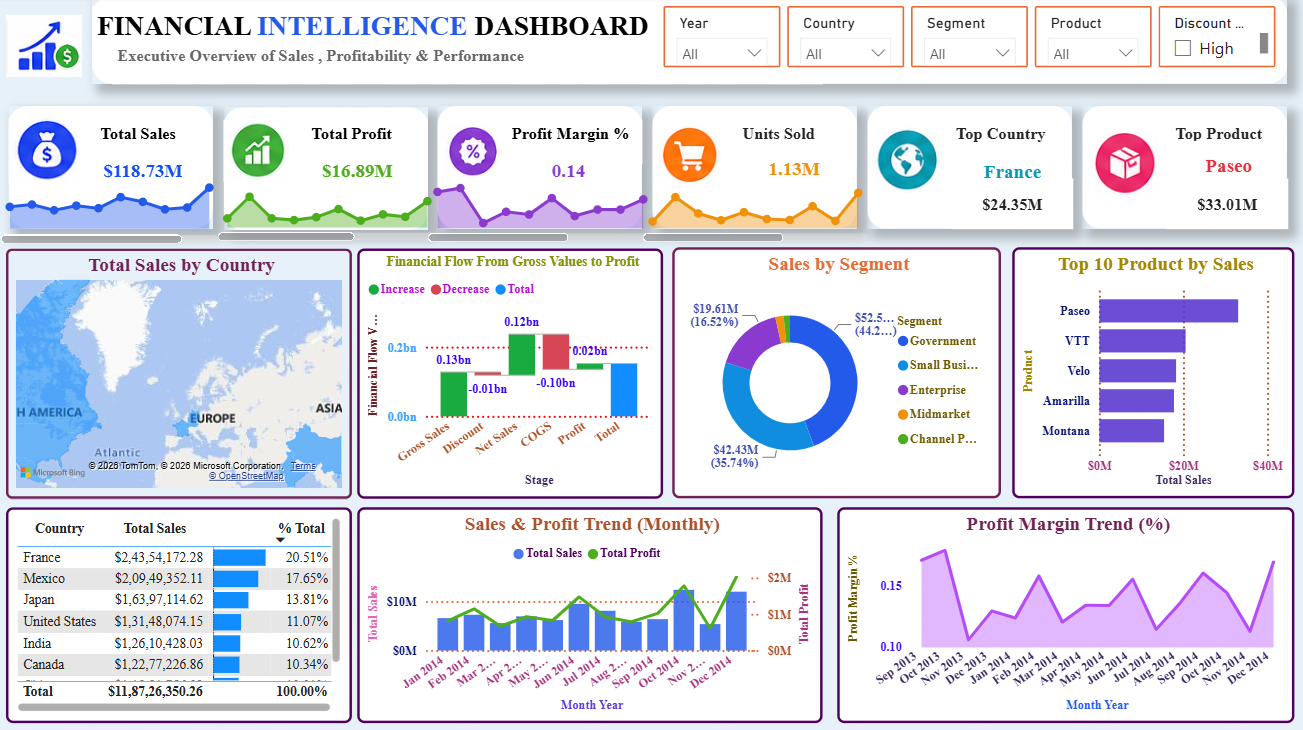

The dashboard page shown, as its layout file describes it:
{"tool":"powerbi","page":{"name":"Page 1","canvas":[1280,720],"ordinal":0},"visuals":[{"type":"shape","box":[94.1,0,1169,85.7],"z":0},{"type":"image","box":[9.8,0,74.6,97.8],"z":1000},{"type":"textbox","box":[94.1,9.7,579.1,61.5],"z":2000},{"type":"textbox","box":[113.4,43.4,694.9,42.2],"z":3000},{"type":"slicer","fields":{"Values":["Calender.Year"]},"box":[652.7,9.7,114,60.3],"z":4000},{"type":"slicer","fields":{"Values":["financials.Country"]},"box":[773.8,9.7,114,60.3],"z":5000},{"type":"slicer","fields":{"Values":["financials.Segment"]},"box":[894.9,9.7,114.6,60.3],"z":6000},{"type":"slicer","fields":{"Values":["financials.Product"]},"box":[1016.6,9.7,114,60.3],"z":7000},{"type":"slicer","fields":{"Values":["financials.Discount Band"]},"box":[1137.7,9.7,114.6,60.3],"z":8000},{"type":"shape","box":[12,108,200,120],"z":9000},{"type":"shape","box":[222,108.6,200.3,120],"z":10000},{"type":"shape","box":[432.2,107.4,200.3,120],"z":11000},{"type":"shape","box":[642.4,107.4,200.3,120],"z":12000},{"type":"shape","box":[852.6,107.4,200.3,120],"z":13000},{"type":"shape","box":[1062.9,107.4,200.3,120],"z":14000},{"type":"textbox","box":[76,120.6,126.7,33.8],"z":15000},{"type":"textbox","box":[273.9,120.6,148.4,33.8],"z":16000},{"type":"textbox","box":[491,120.6,141.2,43.4],"z":17000},{"type":"textbox","box":[690.1,120.6,152,43.4],"z":18000},{"type":"textbox","box":[926.5,120.6,115.8,33.8],"z":19000},{"type":"textbox","box":[1130.4,120.6,132.7,33.8],"z":20000},{"type":"image","box":[12.2,108.8,73.4,84.4],"z":21000},{"type":"image","box":[222.6,107.6,64.8,88],"z":22000},{"type":"image","box":[436.6,126,59.9,52.6],"z":23000},{"type":"image","box":[646.9,108.8,62.4,95.4],"z":24000},{"type":"image","box":[857.2,107.6,69.7,105.2],"z":25000},{"type":"image","box":[1074.9,127.2,62.4,75.8],"z":26000},{"type":"cardVisual","fields":{"Data":["Measure.Total Sales"]},"box":[76,137.5,136.3,66.4],"z":27000},{"type":"cardVisual","fields":{"Data":["Measure.Total Profit"]},"box":[284.7,146,137.5,49.5],"z":28000},{"type":"cardVisual","fields":{"Data":["Measure.Profit Margin %"]},"box":[491,146,137.5,49.5],"z":29000},{"type":"cardVisual","fields":{"Data":["Measure.Units Sold"]},"box":[720.2,144.8,121.9,49.5],"z":30000},{"type":"cardVisual","fields":{"Data":["Measure.Top Country"]},"box":[935,147.2,118.2,49.5],"z":31000},{"type":"cardVisual","fields":{"Data":["Measure.Top Product"]},"box":[1149.9,137.2,113.9,57.6],"z":32000},{"type":"areaChart","fields":{"Y":["Measure.Total Sales"],"Category":["Calender.Date"]},"box":[0,165.1,222.6,81.9],"z":33000},{"type":"areaChart","fields":{"Y":["Measure.Total Profit"],"Category":["Calender.Date"]},"box":[212.3,162.9,223.2,82],"z":34000},{"type":"areaChart","fields":{"Y":["Measure.Profit Margin %"],"Category":["Calender.Date"]},"box":[418.5,170.2,229.2,75.5],"z":35000},{"type":"areaChart","fields":{"Y":["Measure.Units Sold"],"Category":["Calender.Date"]},"box":[628.5,170.2,229.2,75.5],"z":36000},{"type":"cardVisual","fields":{"Data":["Measure.Total Sales"]},"box":[935,178.6,118.2,49.5],"z":37000},{"type":"cardVisual","fields":{"Data":["Measure.Total Sales"]},"box":[1145.8,178.4,118,49.4],"z":38000},{"type":"filledMap","fields":{"Category":["financials.Country"]},"box":[9.8,247,338.7,244.6],"z":39000},{"type":"tableEx","fields":{"Values":["financials.Country","Measure.Total Sales","Sum(financials. Sales)","Divide(Measure.Total Sales, ScopedEval(Measure.Total Sales, []))"]},"box":[9.8,500.1,338.7,211.6],"z":40000},{"type":"waterfallChart","title":"Financial Flow From Gross Values to Profit","fields":{"Category":["Financial Flow.Stage"],"Y":["Financial Flow.Financial Flow Value"]},"box":[353.4,247,299.6,244.6],"z":41000},{"type":"donutChart","title":"Sales by Segment","fields":{"Category":["financials.Segment"],"Y":["Measure.Total Sales"]},"box":[661.6,245.8,321.6,245.8],"z":42000},{"type":"barChart","title":"Top 10 Product by Sales","fields":{"Category":["financials.Product"],"Y":["Measure.Total Sales"]},"box":[994.2,245.8,276.4,245.8],"z":43000},{"type":"lineClusteredColumnComboChart","title":"Sales & Profit Trend (Monthly)","fields":{"Category":["Calender.Month Year"],"Y":["Measure.Total Sales"],"Y2":["Measure.Total Profit"]},"box":[353.4,500.1,454.9,211.6],"z":44000},{"type":"areaChart","title":"Profit Margin Trend (%)","fields":{"Category":["Calender.Month Year"],"Y":["Measure.Profit Margin %"]},"box":[823,500.1,447.6,211.6],"z":45000}]}

Visuals, with their boxes in screenshot pixels (x1, y1, x2, y2), scaled from the page's 1280x720 canvas onto the 1303x730 screenshot:
shape: (x1=96, y1=0, x2=1286, y2=87)
image: (x1=10, y1=0, x2=86, y2=99)
textbox: (x1=96, y1=10, x2=685, y2=72)
textbox: (x1=115, y1=44, x2=823, y2=87)
slicer - Calender.Year: (x1=664, y1=10, x2=780, y2=71)
slicer - financials.Country: (x1=788, y1=10, x2=904, y2=71)
slicer - financials.Segment: (x1=911, y1=10, x2=1028, y2=71)
slicer - financials.Product: (x1=1035, y1=10, x2=1151, y2=71)
slicer - financials.Discount Band: (x1=1158, y1=10, x2=1275, y2=71)
shape: (x1=12, y1=110, x2=216, y2=231)
shape: (x1=226, y1=110, x2=430, y2=232)
shape: (x1=440, y1=109, x2=644, y2=231)
shape: (x1=654, y1=109, x2=858, y2=231)
shape: (x1=868, y1=109, x2=1072, y2=231)
shape: (x1=1082, y1=109, x2=1286, y2=231)
textbox: (x1=77, y1=122, x2=206, y2=157)
textbox: (x1=279, y1=122, x2=430, y2=157)
textbox: (x1=500, y1=122, x2=644, y2=166)
textbox: (x1=703, y1=122, x2=857, y2=166)
textbox: (x1=943, y1=122, x2=1061, y2=157)
textbox: (x1=1151, y1=122, x2=1286, y2=157)
image: (x1=12, y1=110, x2=87, y2=196)
image: (x1=227, y1=109, x2=293, y2=198)
image: (x1=444, y1=128, x2=505, y2=181)
image: (x1=659, y1=110, x2=722, y2=207)
image: (x1=873, y1=109, x2=944, y2=216)
image: (x1=1094, y1=129, x2=1158, y2=206)
cardVisual - Measure.Total Sales: (x1=77, y1=139, x2=216, y2=207)
cardVisual - Measure.Total Profit: (x1=290, y1=148, x2=430, y2=198)
cardVisual - Measure.Profit Margin %: (x1=500, y1=148, x2=640, y2=198)
cardVisual - Measure.Units Sold: (x1=733, y1=147, x2=857, y2=197)
cardVisual - Measure.Top Country: (x1=952, y1=149, x2=1072, y2=199)
cardVisual - Measure.Top Product: (x1=1171, y1=139, x2=1287, y2=198)
areaChart - Measure.Total Sales x Calender.Date: (x1=0, y1=167, x2=227, y2=250)
areaChart - Measure.Total Profit x Calender.Date: (x1=216, y1=165, x2=443, y2=248)
areaChart - Measure.Profit Margin % x Calender.Date: (x1=426, y1=173, x2=659, y2=249)
areaChart - Measure.Units Sold x Calender.Date: (x1=640, y1=173, x2=873, y2=249)
cardVisual - Measure.Total Sales: (x1=952, y1=181, x2=1072, y2=231)
cardVisual - Measure.Total Sales: (x1=1166, y1=181, x2=1287, y2=231)
filledMap - financials.Country: (x1=10, y1=250, x2=355, y2=498)
tableEx - financials.Country x Measure.Total Sales: (x1=10, y1=507, x2=355, y2=722)
"Financial Flow From Gross Values to Profit" waterfallChart: (x1=360, y1=250, x2=665, y2=498)
"Sales by Segment" donutChart: (x1=673, y1=249, x2=1001, y2=498)
"Top 10 Product by Sales" barChart: (x1=1012, y1=249, x2=1293, y2=498)
"Sales & Profit Trend (Monthly)" lineClusteredColumnComboChart: (x1=360, y1=507, x2=823, y2=722)
"Profit Margin Trend (%)" areaChart: (x1=838, y1=507, x2=1293, y2=722)
